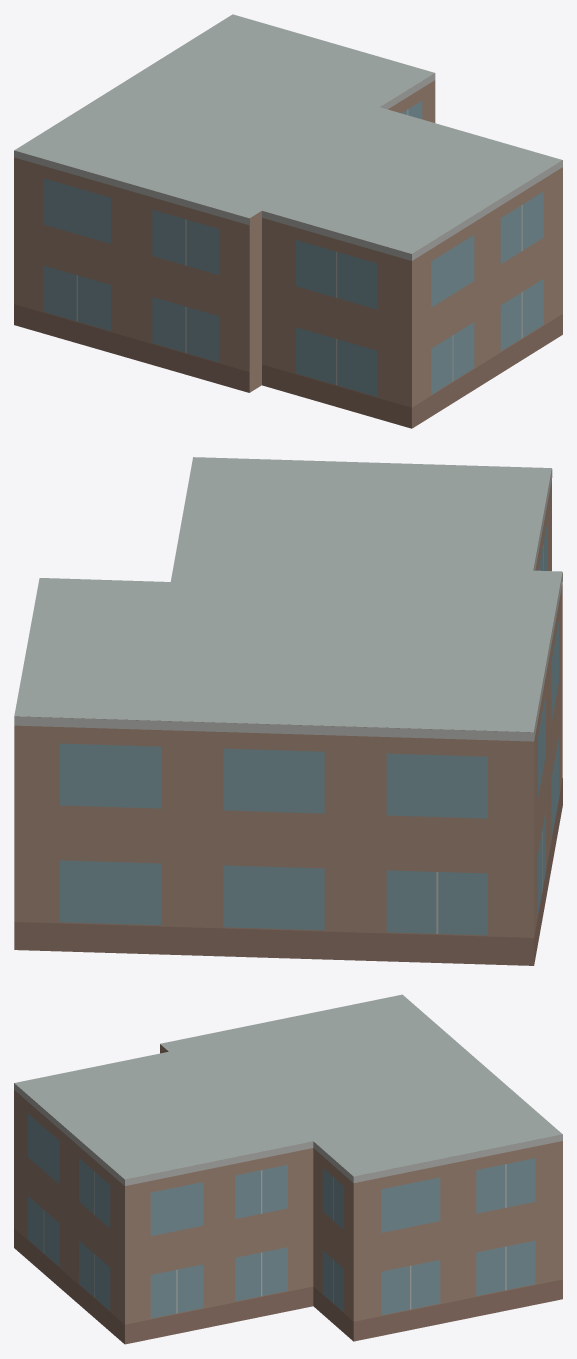
The model's file is survey-upis-32704786.glb.
The picture shows the model from 3 angles, top to bottom: view 1: azimuth 30°, elevation 25°; view 2: azimuth 150°, elevation 25°; view 3: azimuth 270°, elevation 25°; orthographic projection. The views are drawn at different scales.
Parts seen in each view (by area): view 1: survey-upis-32704786.tmp; view 2: survey-upis-32704786.tmp; view 3: survey-upis-32704786.tmp.
Part boxes in pixels (x1,y1,x2,y2): survey-upis-32704786.tmp: (14,14,562,428); survey-upis-32704786.tmp: (14,457,562,965); survey-upis-32704786.tmp: (14,994,562,1344).
Bounding box in the file's own units: 14.7 × 6.1 × 18.41.
